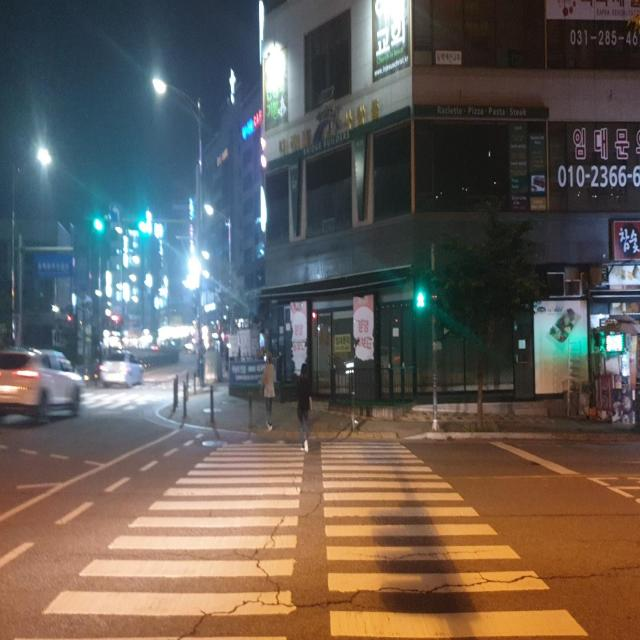초록불: (414, 267, 426, 315)
횡단보도: (14, 432, 588, 636), (82, 384, 176, 407)
